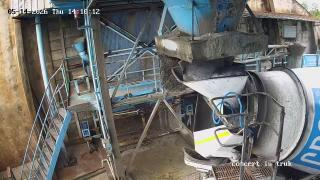cement_mixer_truck: (168, 64, 320, 180)
